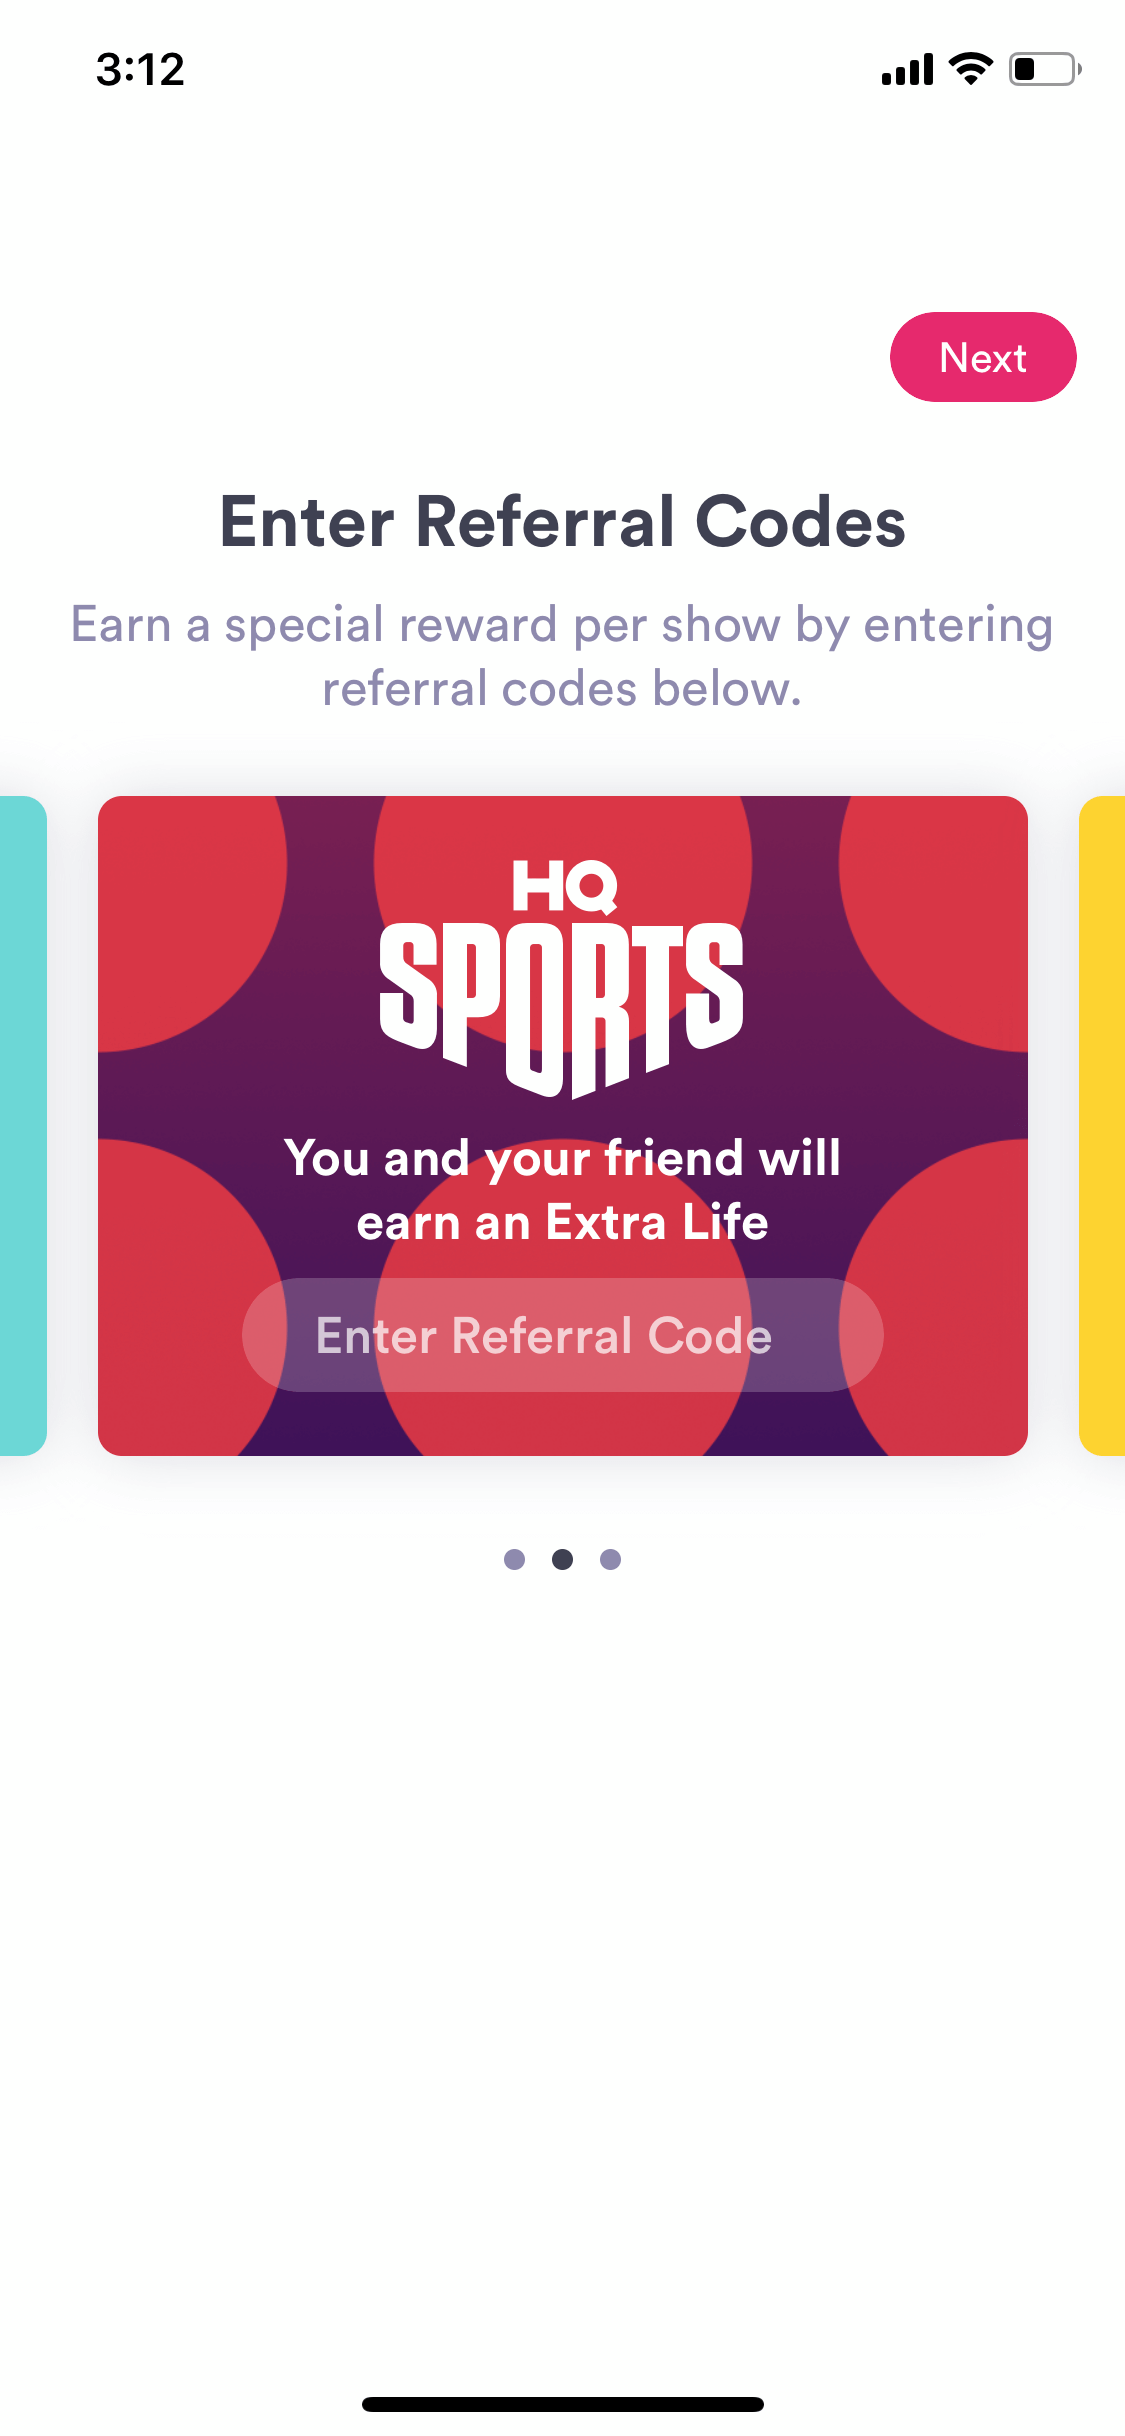Buttons: (225, 1260, 907, 1409), (883, 303, 1089, 413)
Page Controls: (458, 1519, 662, 1596)
